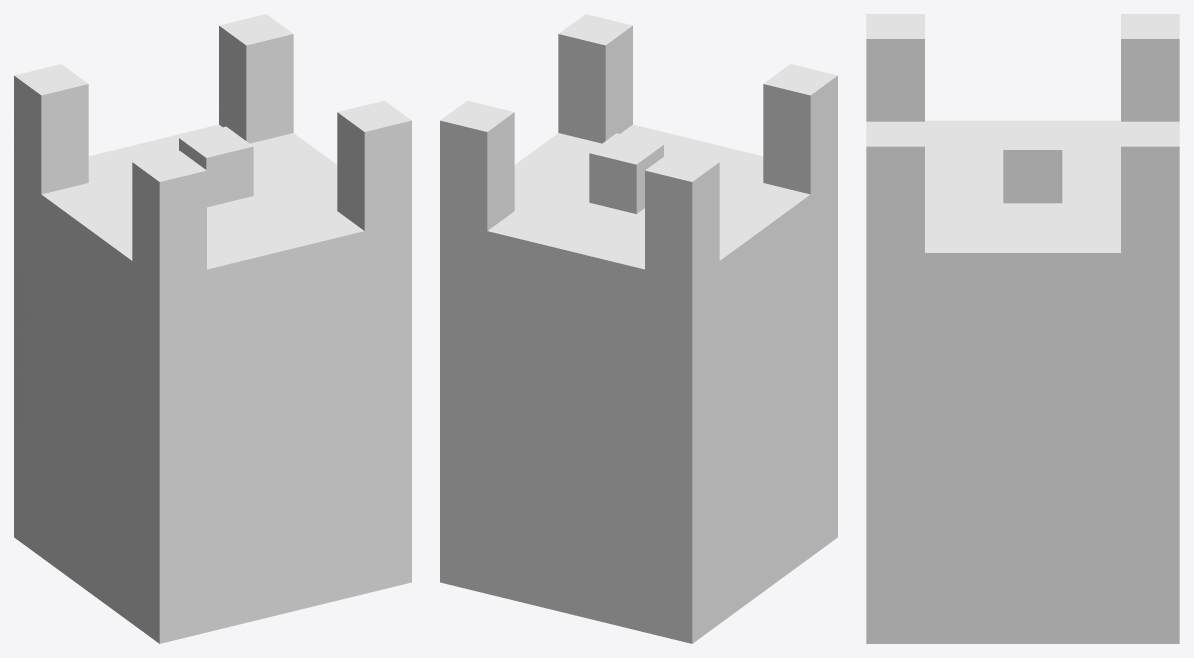
File: tower.glb
3 renders of one model, left to right at view 1: azimuth 30°, elevation 25°; view 2: azimuth 150°, elevation 25°; view 3: azimuth 270°, elevation 25°, orthographic. The views are drawn at different scales.
Parts seen in each view (by area): view 1: cube (×6); view 2: cube (×6); view 3: cube (×6).
Boxes of the visible parts, x1,y1,x2,y2 form: cube (×6): [14, 14, 411, 643]; cube (×6): [440, 14, 837, 643]; cube (×6): [866, 14, 1179, 643].
Bounding box in the file's own units: 1 × 1.75 × 1.
Materials: 2 (2 with a texture image).
